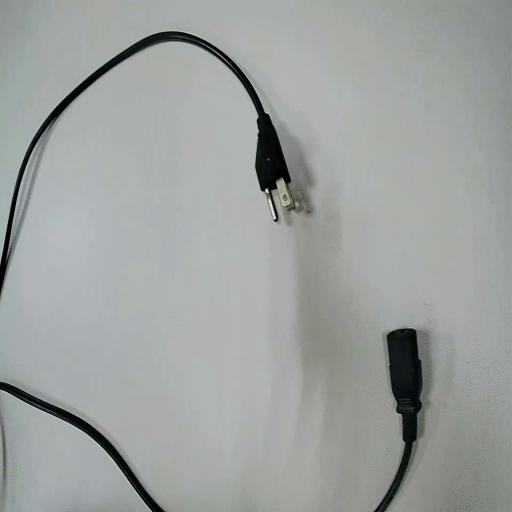wire: (0, 32, 290, 288), (375, 329, 421, 511)
